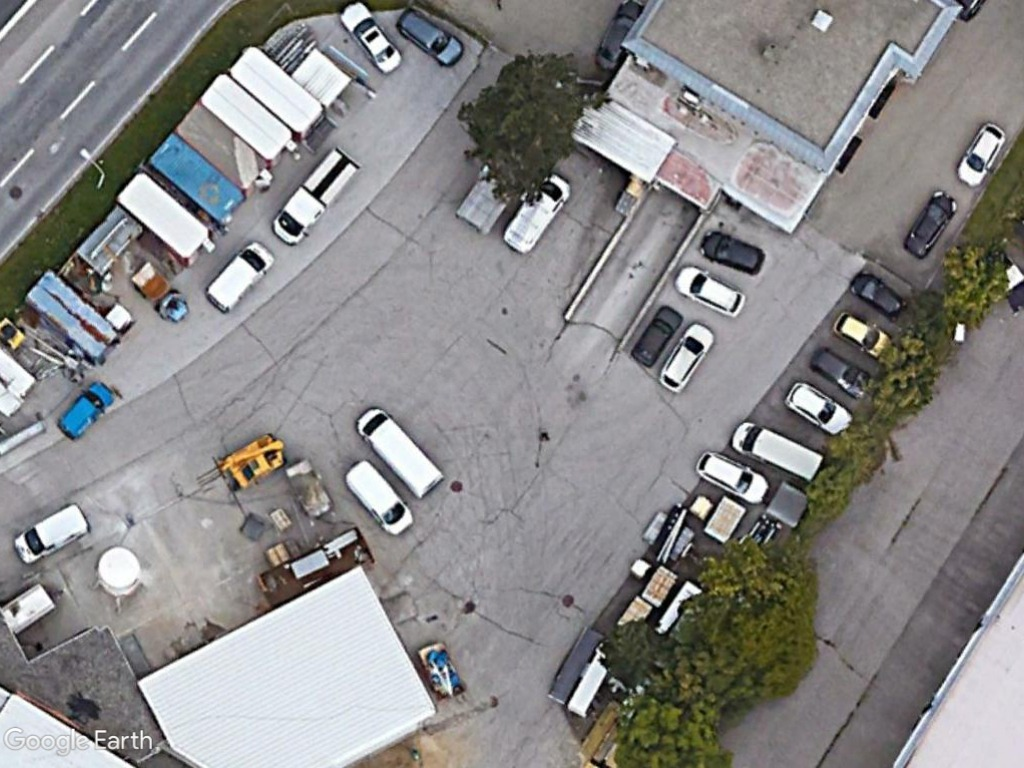car: (334, 1, 405, 76), (670, 259, 751, 319), (654, 322, 717, 394), (53, 376, 117, 444), (899, 186, 960, 257), (781, 380, 856, 437), (694, 448, 770, 504), (807, 339, 872, 404), (953, 121, 1011, 191), (628, 301, 686, 371), (395, 9, 464, 66), (691, 227, 770, 274), (828, 307, 893, 360), (848, 269, 910, 319)
other: (268, 145, 361, 246)
van: (353, 397, 446, 500), (496, 172, 575, 257), (728, 419, 825, 487), (340, 457, 417, 539), (198, 237, 275, 315), (11, 501, 95, 567)
